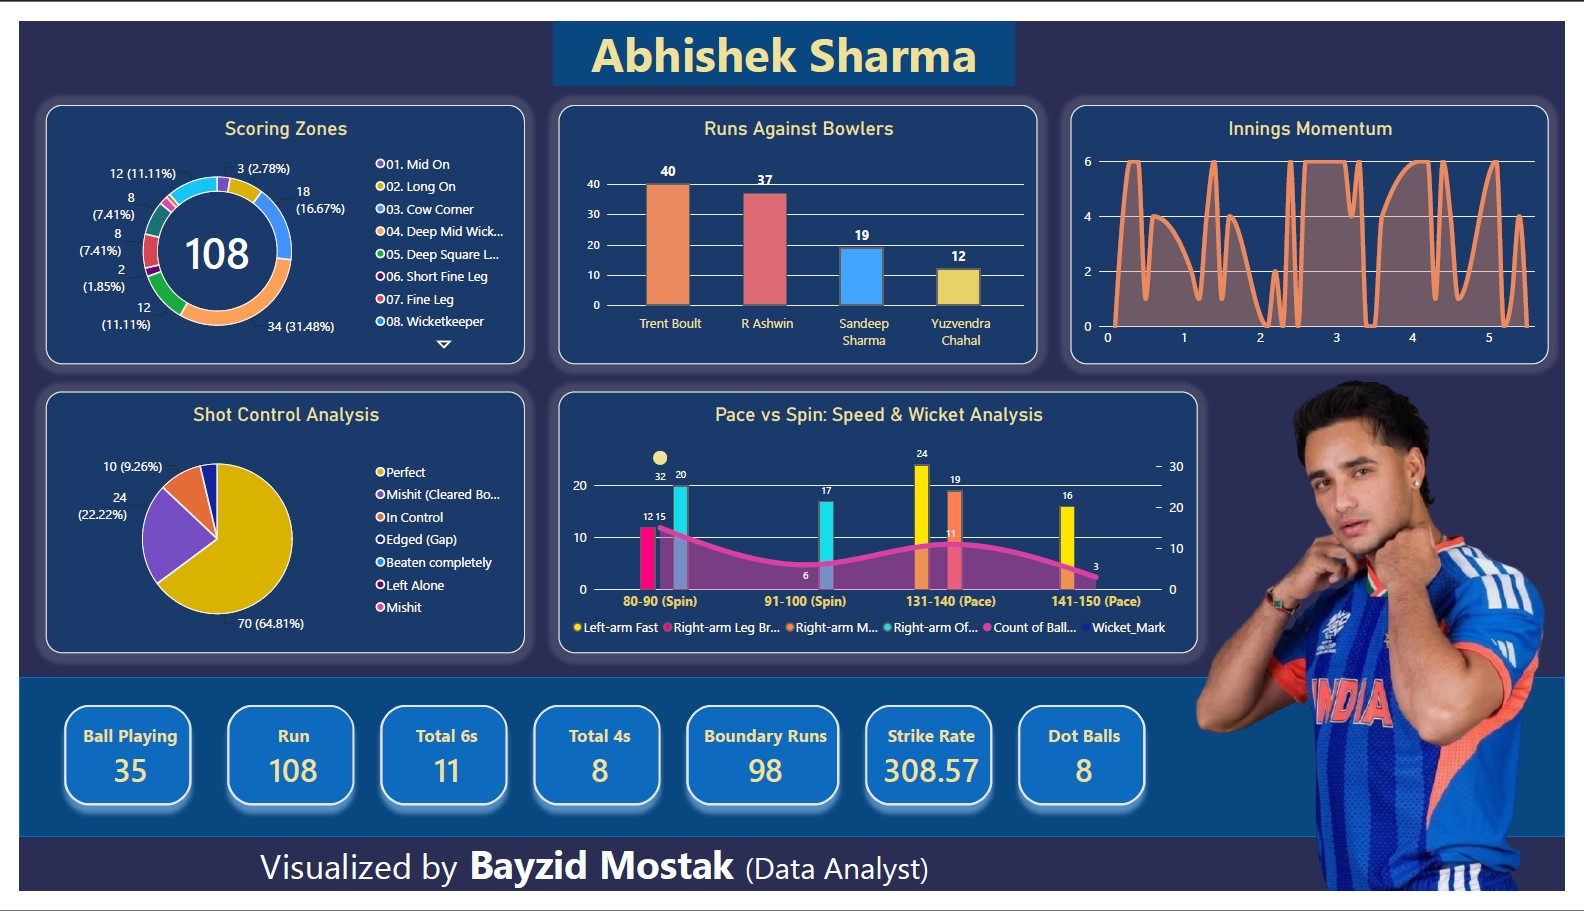

This screenshot's page, from the dashboard's own definition file:
{"tool":"powerbi","page":{"name":"Page 1","canvas":[1920,1080],"ordinal":0},"visuals":[{"type":"shape","box":[0,815,1920,197.5],"z":0},{"type":"cardVisual","fields":{"Data":["CountNonNull(Deep Post-Mortem Analysis.Ball_No)"]},"box":[40,832.5,190,157.5],"z":1000},{"type":"textbox","box":[664,0,572,80],"z":2000},{"type":"cardVisual","fields":{"Data":["Sum(Deep Post-Mortem Analysis.Runs_Scored)"]},"box":[242.5,832.5,190,157.5],"z":3000},{"type":"cardVisual","fields":{"Data":["CountNonNull(Deep Post-Mortem Analysis.Runs_Scored)"]},"box":[432.5,832.5,190,157.5],"z":4000},{"type":"cardVisual","fields":{"Data":["CountNonNull(Deep Post-Mortem Analysis.Runs_Scored)"]},"box":[622.5,832.5,190,157.5],"z":5000},{"type":"cardVisual","fields":{"Data":["CountNonNull(Deep Post-Mortem Analysis.Runs_Scored)"]},"box":[1225,832.5,190,157.5],"z":6000},{"type":"cardVisual","fields":{"Data":["Deep Post-Mortem Analysis.Strike Rate"]},"box":[1035,832.5,190,157.5],"z":7000},{"type":"cardVisual","fields":{"Data":["Sum(Deep Post-Mortem Analysis.Runs_Scored)"]},"box":[812.5,832.5,222.5,157.5],"z":8000},{"type":"donutChart","title":"Scoring Zones","fields":{"Y":["Sum(Deep Post-Mortem Analysis.Runs_Scored)"],"Category":["Deep Post-Mortem Analysis.Wagon_Wheel"]},"box":[32.5,104,595.6,322.2],"z":9000},{"type":"columnChart","title":"Runs Against Bowlers","fields":{"Category":["Deep Post-Mortem Analysis.Bowler_Name"],"Y":["Sum(Deep Post-Mortem Analysis.Runs_Scored)"]},"box":[670,103.8,595,322.5],"z":10000},{"type":"areaChart","title":"Innings   Momentum","fields":{"Category":["Deep Post-Mortem Analysis.Over_Number"],"Y":["Sum(Deep Post-Mortem Analysis.Runs_Scored)"]},"box":[1306.2,103.8,593.8,322.5],"z":11000},{"type":"pieChart","title":"Shot Control Analysis","fields":{"Category":["Deep Post-Mortem Analysis.Shot_Control"],"Y":["Sum(Deep Post-Mortem Analysis.Runs_Scored)"]},"box":[32.5,460,595,325],"z":12000},{"type":"lineClusteredColumnComboChart","title":"Pace vs Spin: Speed & Wicket Analysis","fields":{"Y":["Sum(Deep Post-Mortem Analysis.Runs_Scored)"],"Y2":["CountNonNull(Deep Post-Mortem Analysis.Ball_No)","Deep Post-Mortem Analysis.Wicket_Mark"],"Series":["Deep Post-Mortem Analysis.Bowler_Type"],"Category":["Deep Post-Mortem Analysis.Speed_Zone"]},"box":[670,460,793.8,325],"z":13000},{"type":"image","box":[1430,427.5,490,652.5],"z":13001},{"type":"textbox","box":[100,100,300,300],"z":13002},{"type":"textbox","box":[0,1012.5,1430,67.5],"z":13003}]}

Visuals, with their boxes in screenshot pixels (x1, y1, x2, y2), scaled from the page's 1920x1080 canvas onto the 1584x911 screenshot:
shape: (left=0, top=687, right=1583, bottom=854)
cardVisual - CountNonNull(Deep Post-Mortem Analysis.Ball_No): (left=33, top=702, right=190, bottom=835)
textbox: (left=548, top=0, right=1020, bottom=67)
cardVisual - Sum(Deep Post-Mortem Analysis.Runs_Scored): (left=200, top=702, right=357, bottom=835)
cardVisual - CountNonNull(Deep Post-Mortem Analysis.Runs_Scored): (left=357, top=702, right=514, bottom=835)
cardVisual - CountNonNull(Deep Post-Mortem Analysis.Runs_Scored): (left=514, top=702, right=670, bottom=835)
cardVisual - CountNonNull(Deep Post-Mortem Analysis.Runs_Scored): (left=1011, top=702, right=1167, bottom=835)
cardVisual - Deep Post-Mortem Analysis.Strike Rate: (left=854, top=702, right=1011, bottom=835)
cardVisual - Sum(Deep Post-Mortem Analysis.Runs_Scored): (left=670, top=702, right=854, bottom=835)
"Scoring Zones" donutChart: (left=27, top=88, right=518, bottom=360)
"Runs Against Bowlers" columnChart: (left=553, top=88, right=1044, bottom=360)
"Innings   Momentum" areaChart: (left=1078, top=88, right=1568, bottom=360)
"Shot Control Analysis" pieChart: (left=27, top=388, right=518, bottom=662)
"Pace vs Spin: Speed & Wicket Analysis" lineClusteredColumnComboChart: (left=553, top=388, right=1208, bottom=662)
image: (left=1180, top=361, right=1583, bottom=910)
textbox: (left=82, top=84, right=330, bottom=337)
textbox: (left=0, top=854, right=1180, bottom=910)
